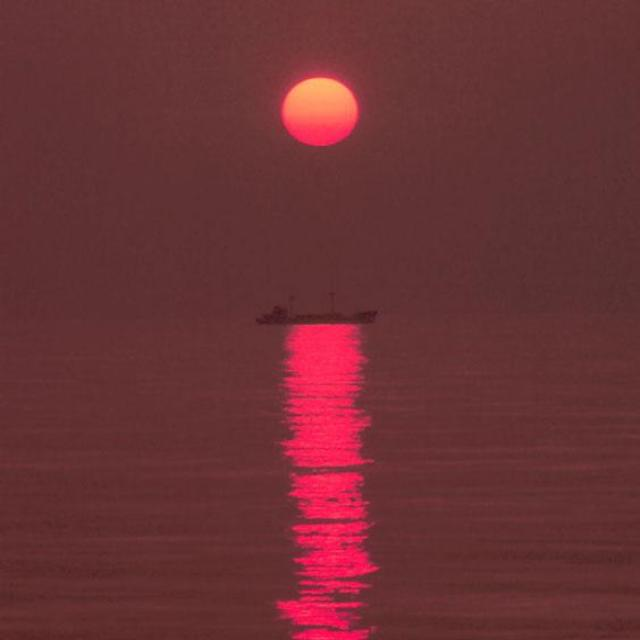other: (267, 312, 387, 630), (266, 58, 372, 156)
